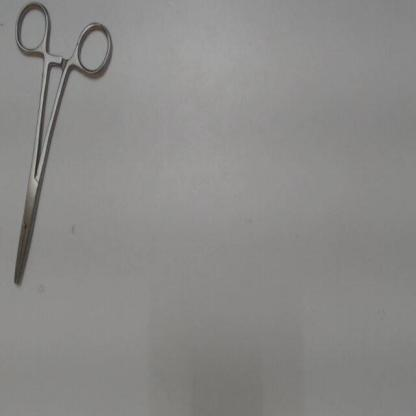Mayo Needle Holder: (5, 0, 122, 305)
